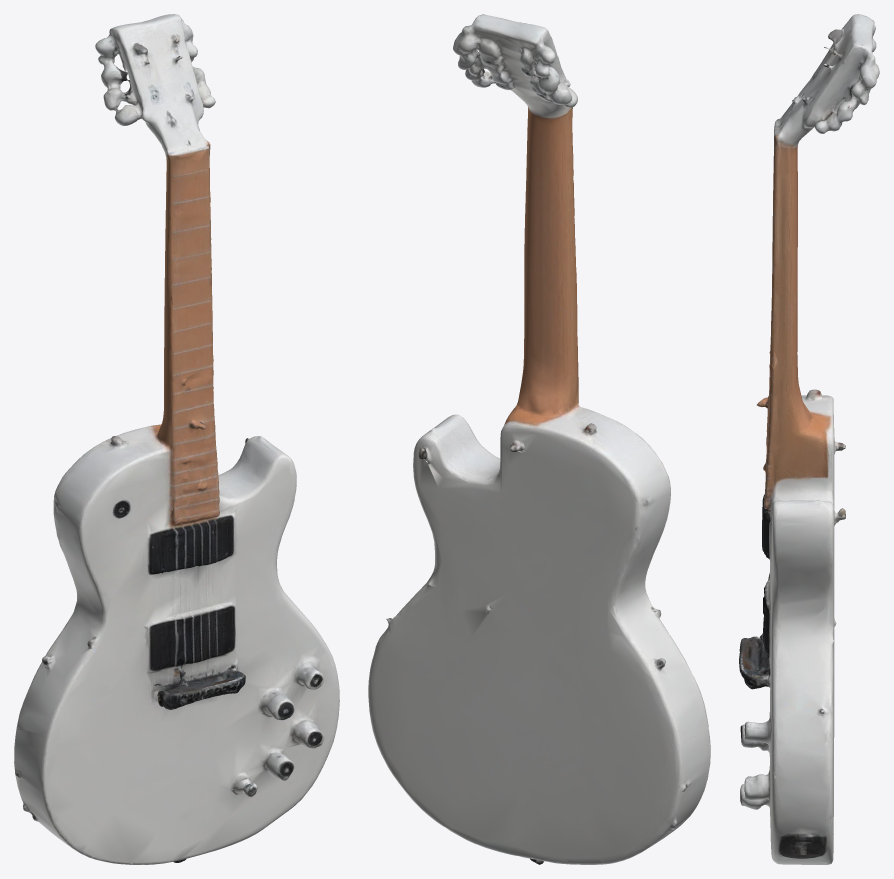
The model's file is guitar.glb.
3 renders of one model, left to right at view 1: azimuth 30°, elevation 25°; view 2: azimuth 150°, elevation 25°; view 3: azimuth 270°, elevation 25°, orthographic. The views are drawn at different scales.
Size of the model in its own units: 0.766 by 2 by 0.3098.
Materials: 1 (1 with a texture image).
